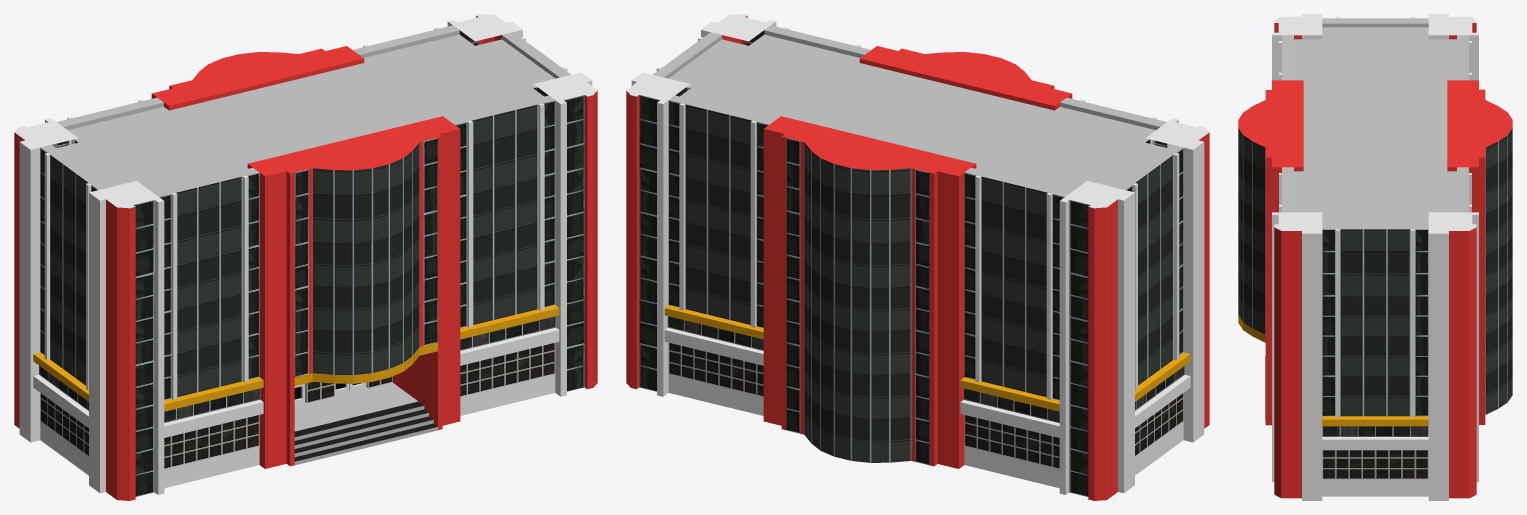
3 renders of one model, left to right at view 1: azimuth 30°, elevation 25°; view 2: azimuth 150°, elevation 25°; view 3: azimuth 270°, elevation 25°, orthographic. The views are drawn at different scales.
Parts seen in each view (by area): view 1: Building; view 2: Building; view 3: Building.
Boxes of the visible parts, bbox=[...] form: Building: bbox=[14, 14, 597, 500]; Building: bbox=[626, 14, 1209, 500]; Building: bbox=[1238, 14, 1512, 500].
Size of what is drawn, in the model's own units: 35.21 by 20 by 18.61.
